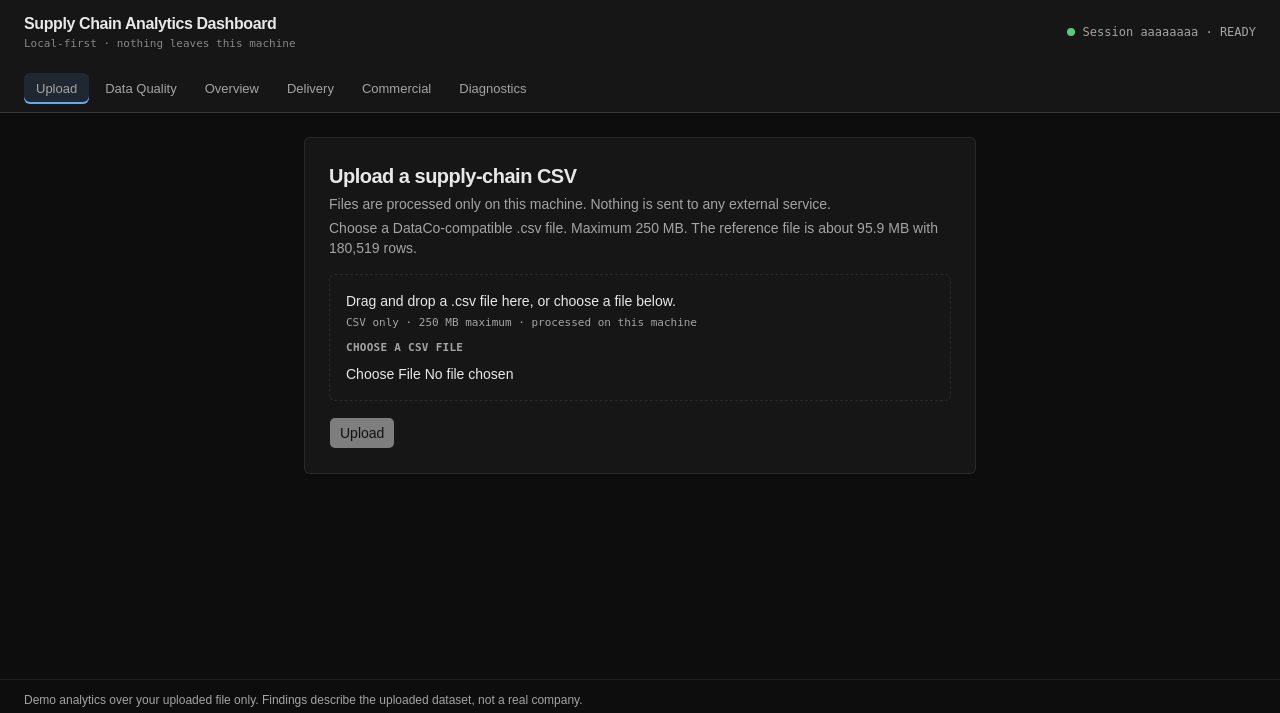
Test case: Phase-14 Commercial analytics › renders headline commercial cards with approved backend labels
The image size is (1280, 713).
Click the button "Commercial": [397, 88] box [350,72,443,104]
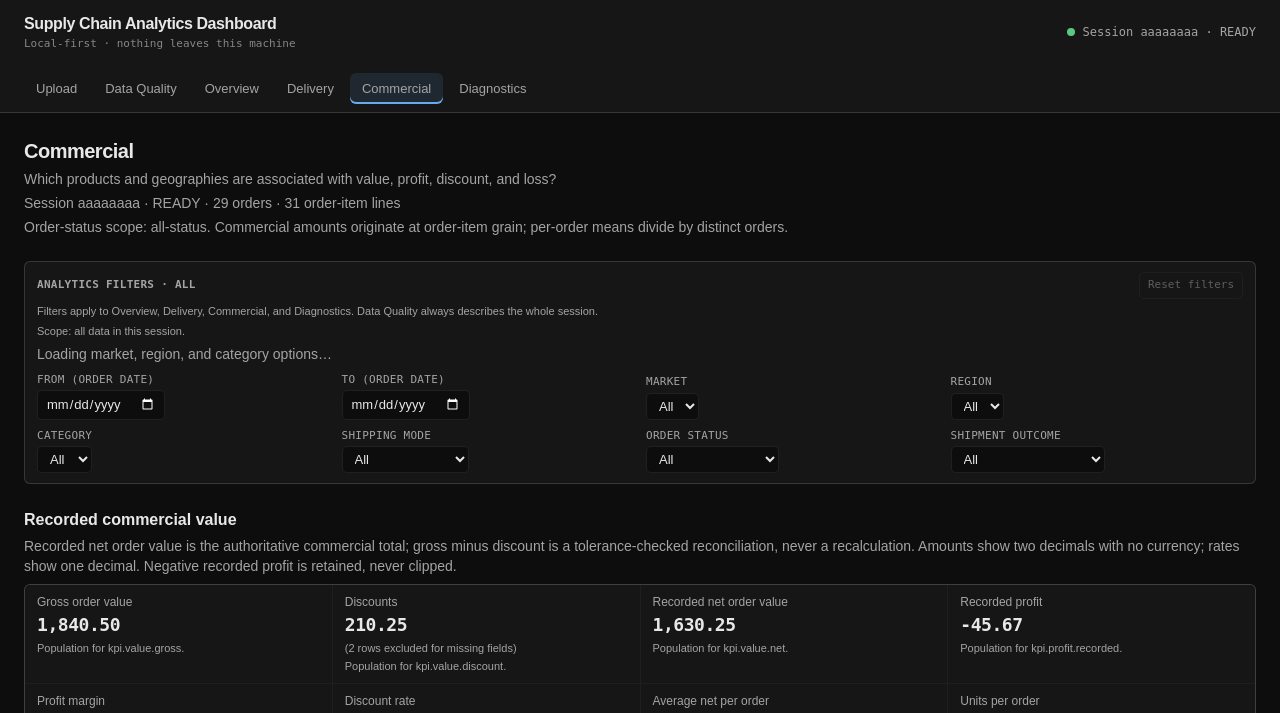
Expected: the heading "Commercial" is shown, [24,140,134,162]
